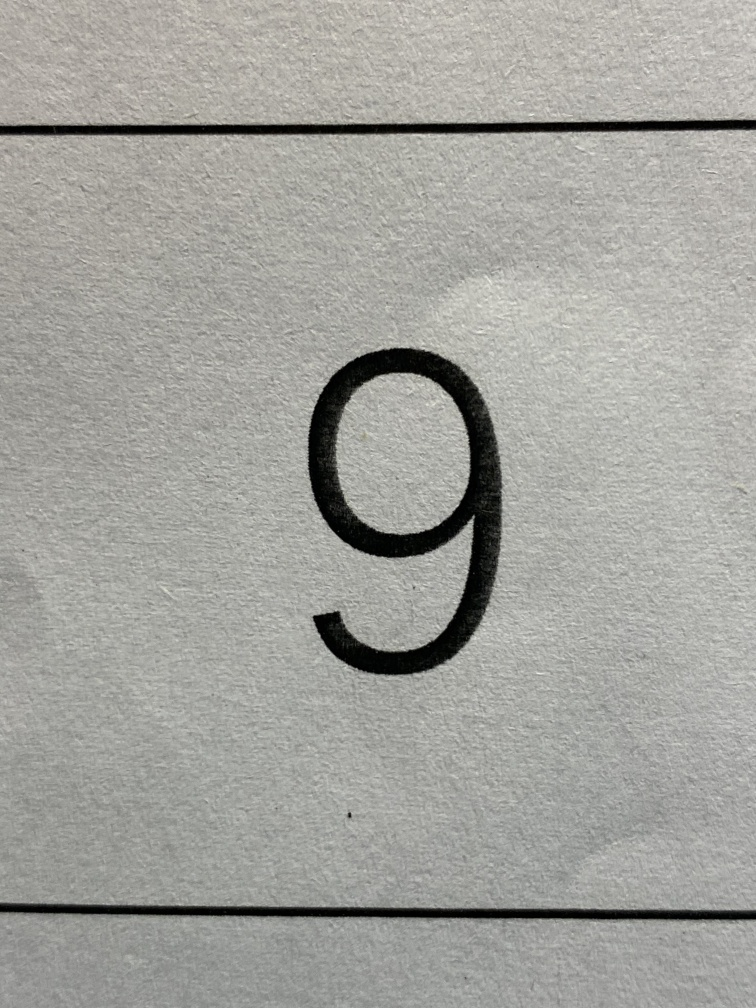nine: (226, 272, 575, 776)
